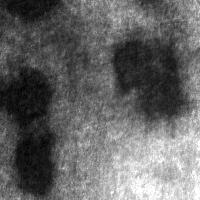patches: (64, 0, 200, 130), (92, 116, 200, 200), (111, 36, 187, 133), (1, 66, 54, 193), (38, 9, 98, 69), (1, 1, 61, 26)
